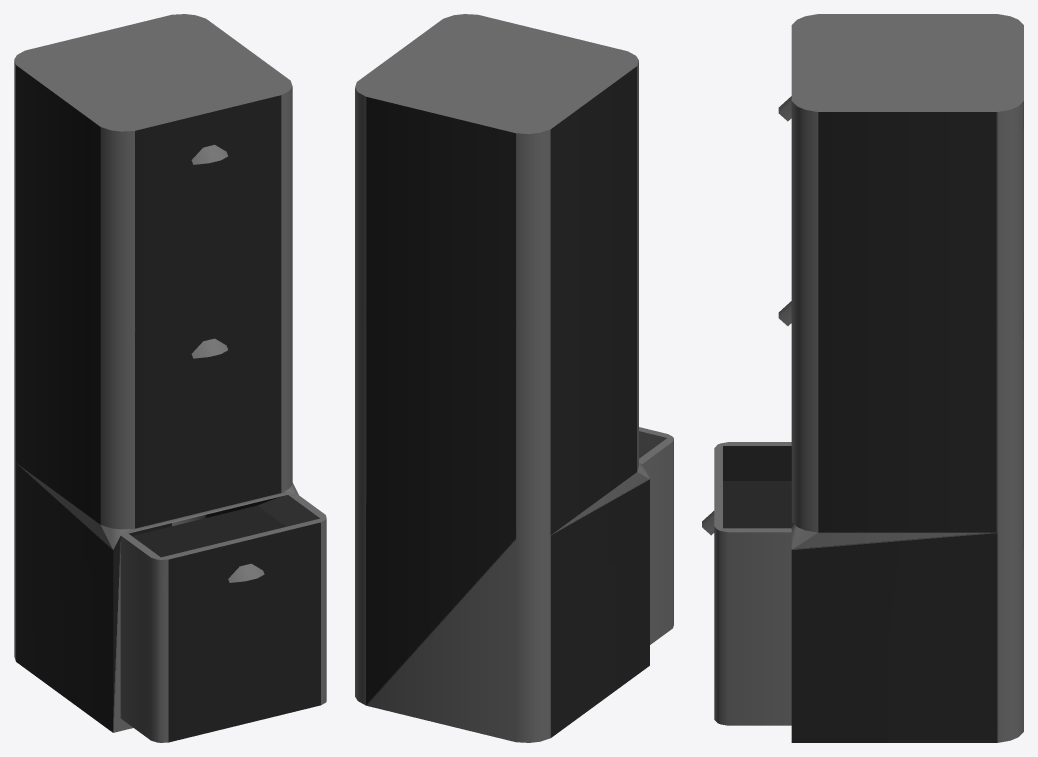
Rendered from Rak 2.FBX.
The picture shows the model from 3 angles, left to right: view 1: azimuth 30°, elevation 25°; view 2: azimuth 150°, elevation 25°; view 3: azimuth 270°, elevation 25°; orthographic projection. The views are drawn at different scales.
Visible parts, largest first — view 1: Plane002; view 2: Plane002; view 3: Plane002.
Part boxes in pixels (x1=…): Plane002: x1=14, y1=14, x2=326, y2=742; Plane002: x1=355, y1=14, x2=673, y2=742; Plane002: x1=702, y1=14, x2=1023, y2=742.
Size of the model in its own units: 30 by 90 by 41.6.
